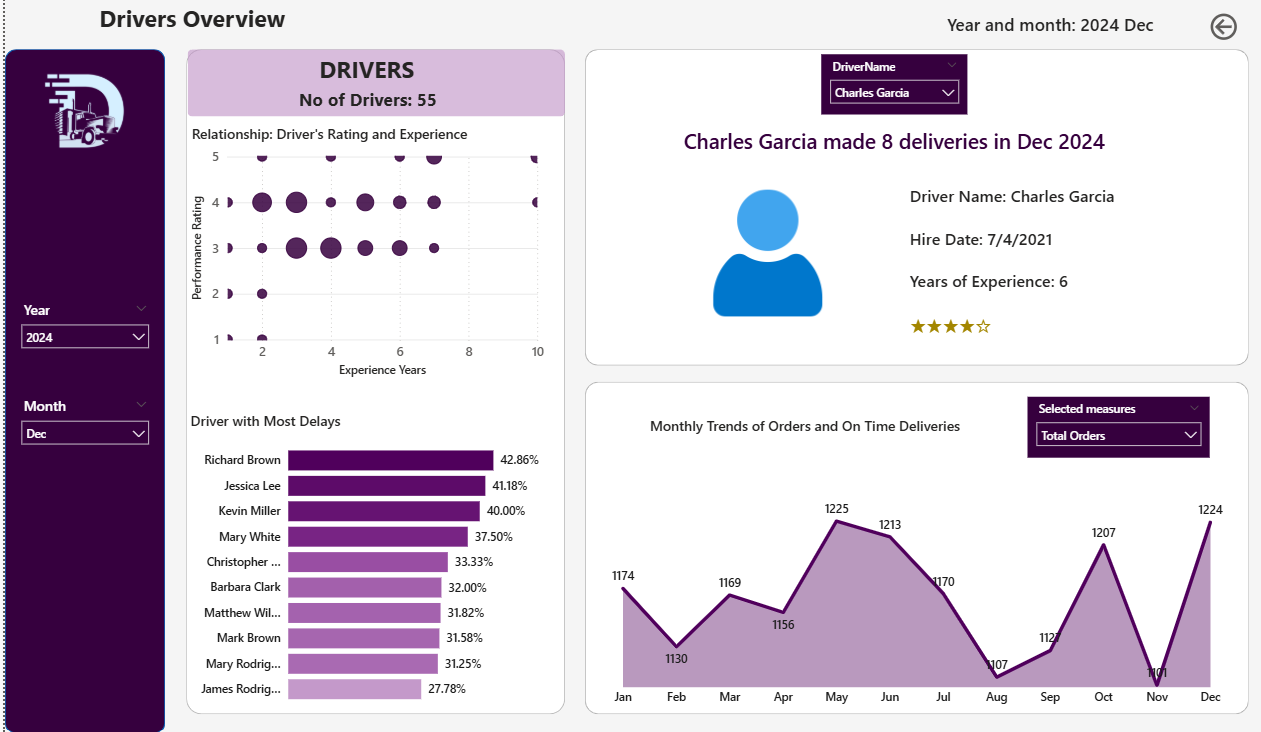

This screenshot's page, from the dashboard's own definition file:
{"tool":"powerbi","page":{"name":"Drivers Overview","canvas":[1450,850],"ordinal":2},"visuals":[{"type":"shape","box":[0,59.1,185,791.2],"z":0},{"type":"textbox","box":[103.9,0,440.3,73.6],"z":1000},{"type":"slicer","fields":{"Values":["Dim_date.Year"]},"box":[9.3,343.5,167.9,80.8],"z":2000},{"type":"slicer","fields":{"Values":["Dim_date.Month"]},"box":[9.3,455.5,167.9,80.8],"z":3000},{"type":"shape","box":[209.3,59.2,437.4,768],"z":4000},{"type":"shape","box":[669.8,59.2,766.6,365.2],"z":5000},{"type":"shape","box":[210.8,59.2,436,78],"z":6000},{"type":"textbox","box":[319,59.2,197.8,52],"z":7000},{"type":"card","fields":{"Values":["#measures.No of Drivers"]},"box":[319,99.6,200.7,37.5],"z":8000},{"type":"scatterChart","title":"Relationship: Driver''s Rating and Experience","fields":{"X":["Drivers.Experience Years"],"Size":["CountNonNull(Drivers.Performance Rating)1"],"Y":["Drivers.Performance Rating"]},"box":[210.8,145.8,417.2,297.4],"z":9000},{"type":"barChart","title":"Driver with Most Delays","fields":{"Category":["Drivers.DriverName"],"Y":["#measures.Delayed_delivery_rate_%"]},"box":[209.3,476.4,418.7,350.8],"z":10000},{"type":"image","box":[26.4,73.1,133.7,121.2],"z":11000},{"type":"slicer","fields":{"Values":["Drivers.DriverName"]},"box":[942.7,65,168.9,69.3],"z":12000},{"type":"card","fields":{"Values":["#measures.Driver details"]},"box":[708.8,141.5,636.6,49.1],"z":13000},{"type":"cardVisual","fields":{"Data":["#measures.Driver Title","#measures.Driver Hire Date","#measures.Driver YOE","#measures.Star rating"]},"box":[1027.9,190.6,281.5,209.3],"z":14000},{"type":"image","box":[733.4,216.5,294.5,155.9],"z":15000},{"type":"shape","box":[669.8,443.2,766.6,384],"z":16000},{"type":"lineChart","fields":{"Y":["#measures.Total Orders"],"Category":["Dim_date.Month"]},"box":[684.3,567.3,737.7,259.9],"z":17000},{"type":"slicer","fields":{"Values":["Selected measures .Selected measures "]},"box":[1180.9,460.5,210.8,70.7],"z":18000},{"type":"textbox","box":[684.3,477.8,483.6,36.1],"z":19000},{"type":"card","fields":{"Values":["#measures.selected_year_and_month"]},"box":[1027.9,5.8,359.5,53.4],"z":20000},{"type":"actionButton","box":[1387.3,13,62.1,40.4],"z":21000}]}

Visuals, with their boxes in screenshot pixels (x1, y1, x2, y2), scaled from the page's 1450x850 canvas onto the 1261x732 screenshot:
shape: 0,51,161,731
textbox: 90,0,473,63
slicer - Dim_date.Year: 8,296,154,365
slicer - Dim_date.Month: 8,392,154,462
shape: 182,51,562,712
shape: 582,51,1249,365
shape: 183,51,562,118
textbox: 277,51,449,96
card - #measures.No of Drivers: 277,86,452,118
"Relationship: Driver''s Rating and Experience" scatterChart: 183,126,546,382
"Driver with Most Delays" barChart: 182,410,546,712
image: 23,63,139,167
slicer - Drivers.DriverName: 820,56,967,116
card - #measures.Driver details: 616,122,1170,164
cardVisual - #measures.Driver Title x #measures.Driver Hire Date: 894,164,1139,344
image: 638,186,894,321
shape: 582,382,1249,712
lineChart - #measures.Total Orders x Dim_date.Month: 595,489,1237,712
slicer - Selected measures .Selected measures : 1027,397,1210,457
textbox: 595,411,1016,443
card - #measures.selected_year_and_month: 894,5,1207,51
actionButton: 1206,11,1260,46
